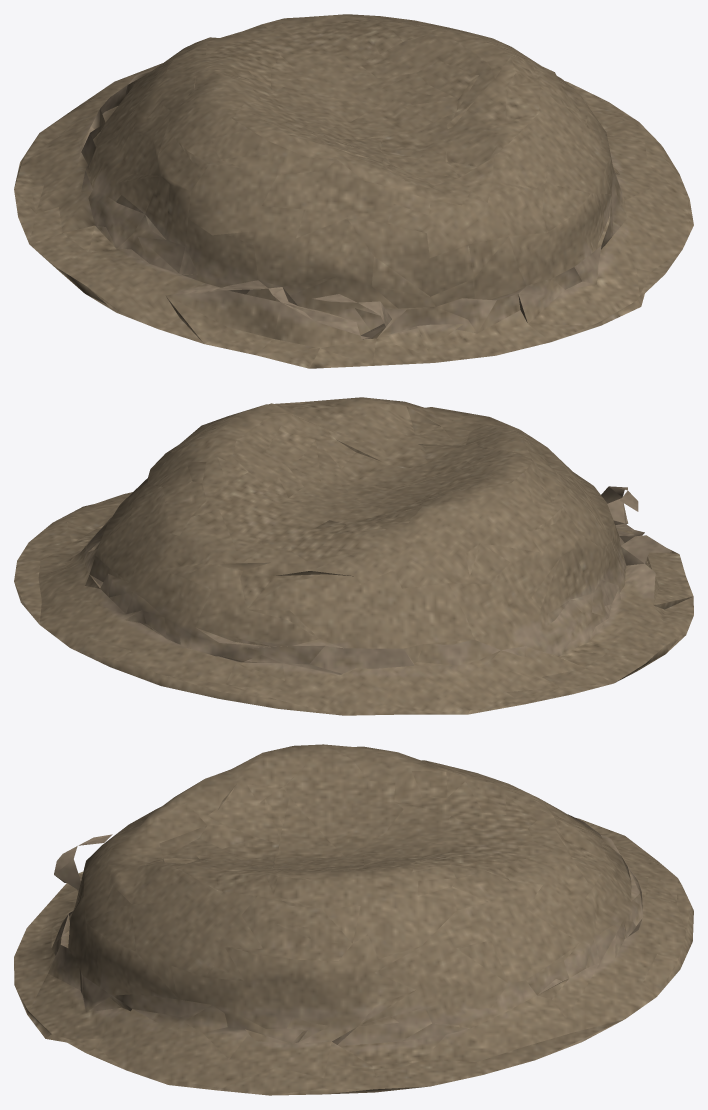
File: wear_trilby.glb
3 renders of one model, top to bottom at view 1: azimuth 30°, elevation 25°; view 2: azimuth 150°, elevation 25°; view 3: azimuth 270°, elevation 25°, orthographic. The views are drawn at different scales.
Parts seen in each view (by area): view 1: mesh; view 2: mesh; view 3: mesh.
Boxes of the visible parts, x1,y1,x2,y2 form: mesh: [14, 14, 693, 368]; mesh: [14, 397, 693, 715]; mesh: [14, 744, 693, 1095].
Size of the model in its own units: 0.4741 by 0.12 by 0.4658.
Materials: 1 (1 with a texture image).
